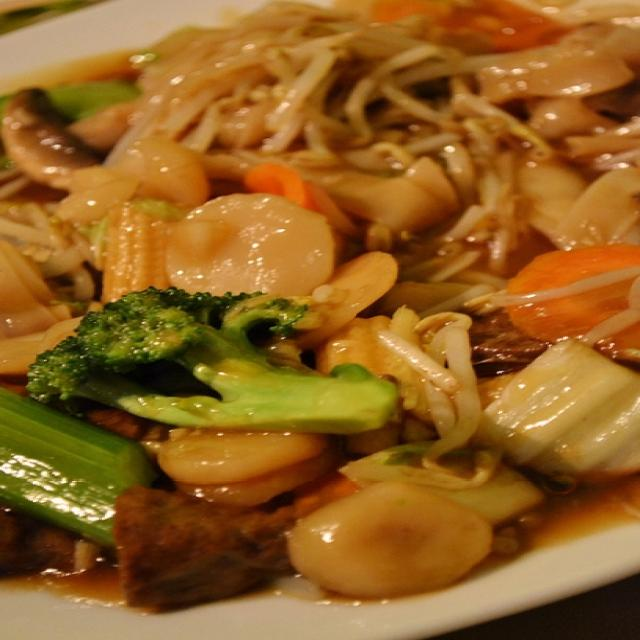蔬菜料理: (17, 18, 620, 604)
